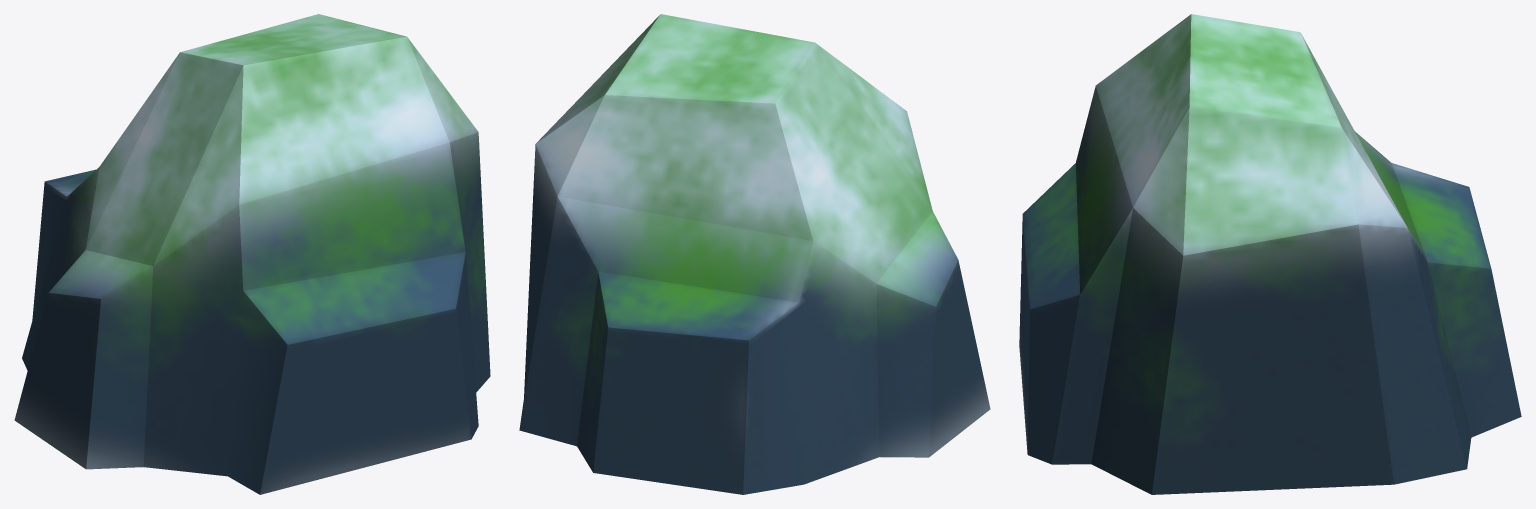
The model's file is Rock_Moss_5.fbx.
3 views of the same model, side by side, from view 1: azimuth 30°, elevation 25°; view 2: azimuth 150°, elevation 25°; view 3: azimuth 270°, elevation 25° (orthographic). The views are drawn at different scales.
Visible parts, largest first — view 1: Rock_Moss_5; view 2: Rock_Moss_5; view 3: Rock_Moss_5.
Part boxes in pixels (x1,y1,x2,y2): Rock_Moss_5: [14, 14, 490, 494]; Rock_Moss_5: [519, 14, 990, 494]; Rock_Moss_5: [1019, 14, 1521, 494].
Bounding box in the file's own units: 0.8439 × 0.7015 × 0.8734.
